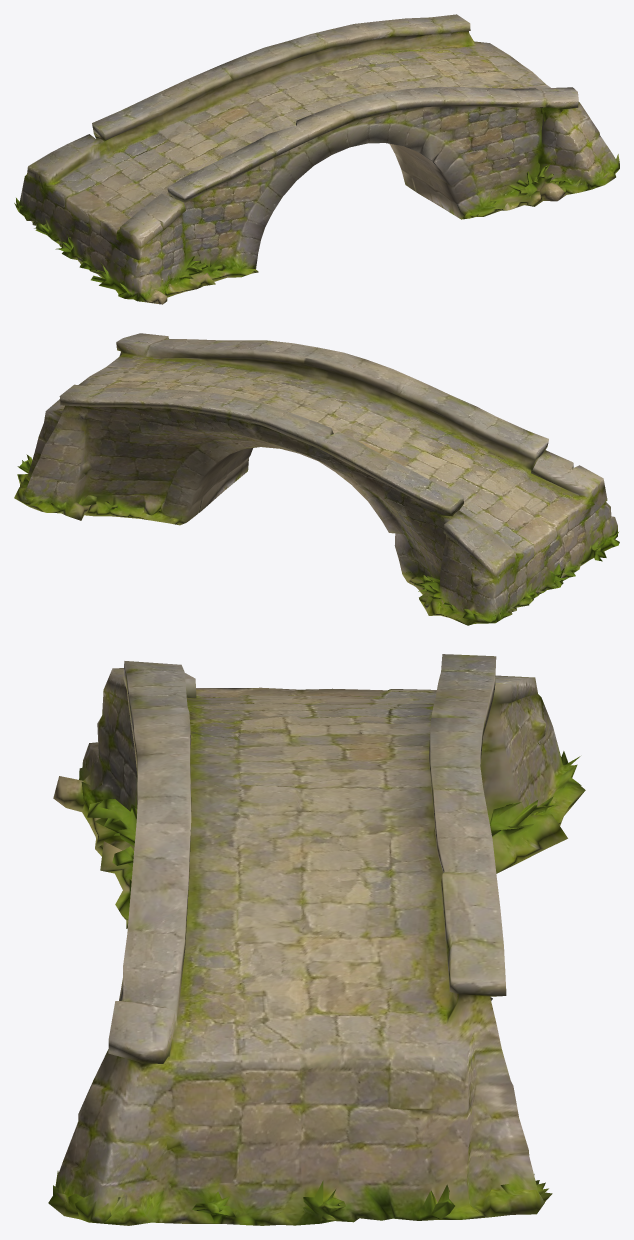
The model's file is kopru2-ham.glb.
3 views of the same model, one above another, from view 1: azimuth 30°, elevation 25°; view 2: azimuth 150°, elevation 25°; view 3: azimuth 270°, elevation 25° (orthographic). The views are drawn at different scales.
Visible parts, largest first — view 1: tripo_node_fa654075-4304-42e8-b7c8-563600feced0; view 2: tripo_node_fa654075-4304-42e8-b7c8-563600feced0; view 3: tripo_node_fa654075-4304-42e8-b7c8-563600feced0.
Boxes of the visible parts, <box> form: tripo_node_fa654075-4304-42e8-b7c8-563600feced0: <box>14,14,619,304</box>; tripo_node_fa654075-4304-42e8-b7c8-563600feced0: <box>14,333,619,625</box>; tripo_node_fa654075-4304-42e8-b7c8-563600feced0: <box>48,654,585,1225</box>.
Size of the model in its own units: 0.9771 by 0.2746 by 0.4515.
1 material, 1 textured.
